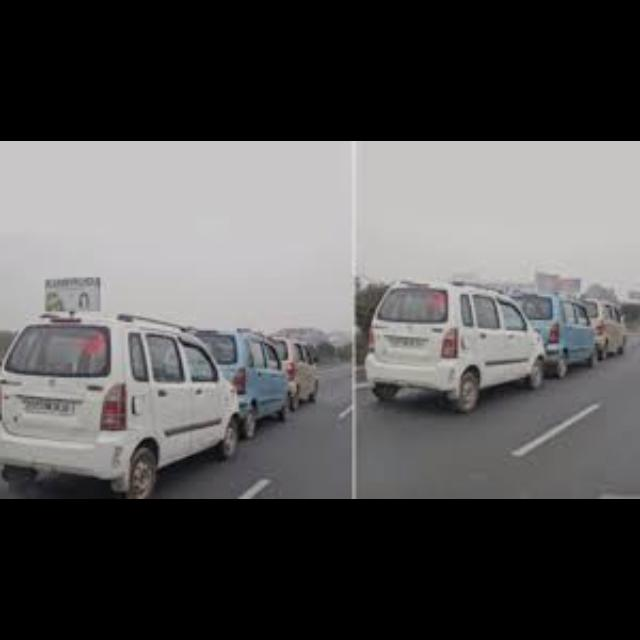vehicles: (4, 310, 234, 492), (366, 278, 548, 412), (516, 290, 598, 376), (268, 338, 320, 410)
